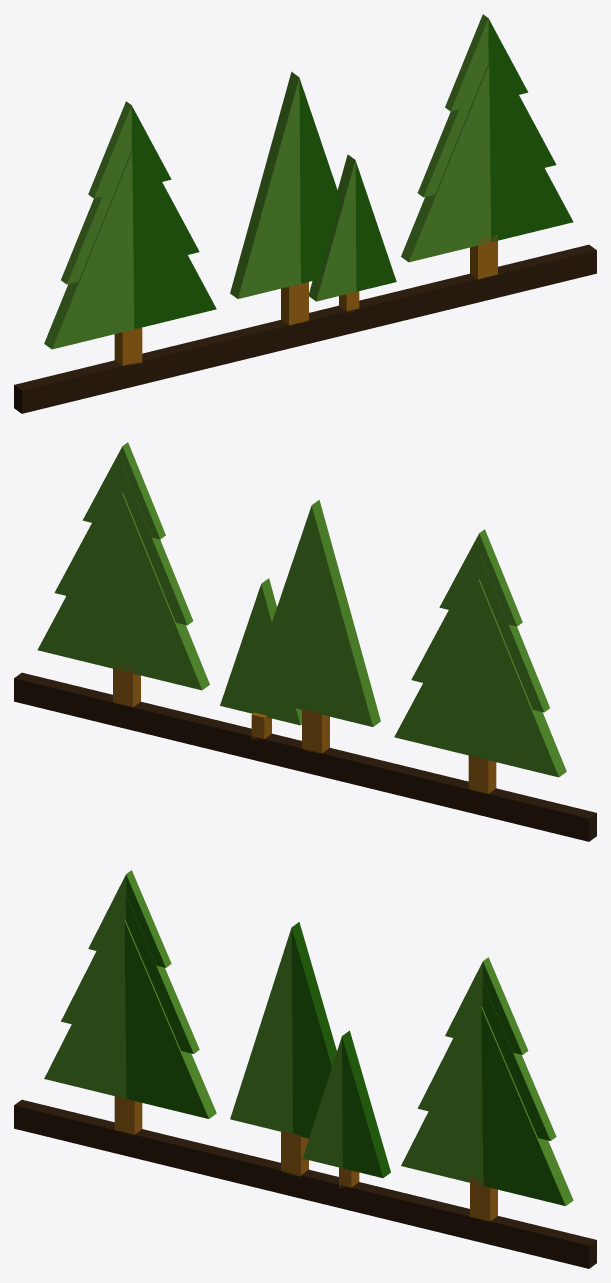
File: ICONO_BOSQUE.fbx
3 views of the same model, one above another, from view 1: azimuth 30°, elevation 25°; view 2: azimuth 150°, elevation 25°; view 3: azimuth 330°, elevation 25° (orthographic).
Visible parts, largest first — view 1: ICONO_BOSQUE; view 2: ICONO_BOSQUE; view 3: ICONO_BOSQUE.
Boxes of the visible parts, bbox=[...] form: ICONO_BOSQUE: bbox=[14, 14, 596, 413]; ICONO_BOSQUE: bbox=[14, 442, 596, 841]; ICONO_BOSQUE: bbox=[14, 870, 596, 1268].
Size of the model in its own units: 520 by 242 by 16.77.
